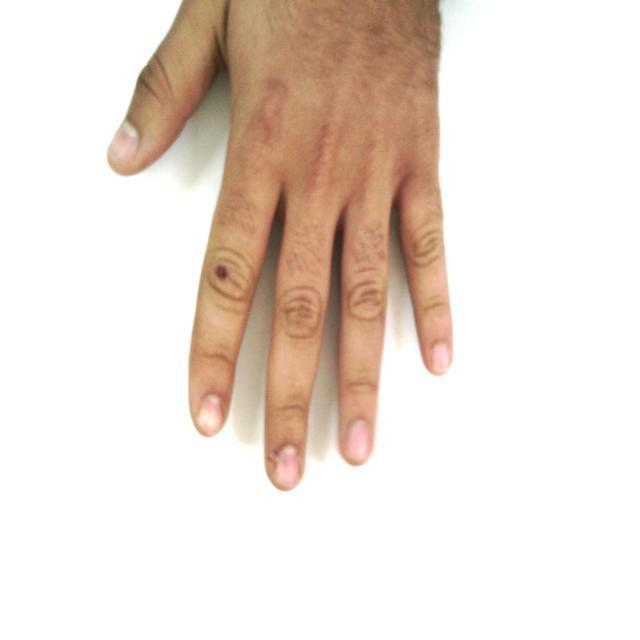Fingernail: (111, 122, 138, 163), (275, 446, 299, 488), (346, 421, 369, 461), (199, 397, 222, 433), (432, 343, 449, 373)
